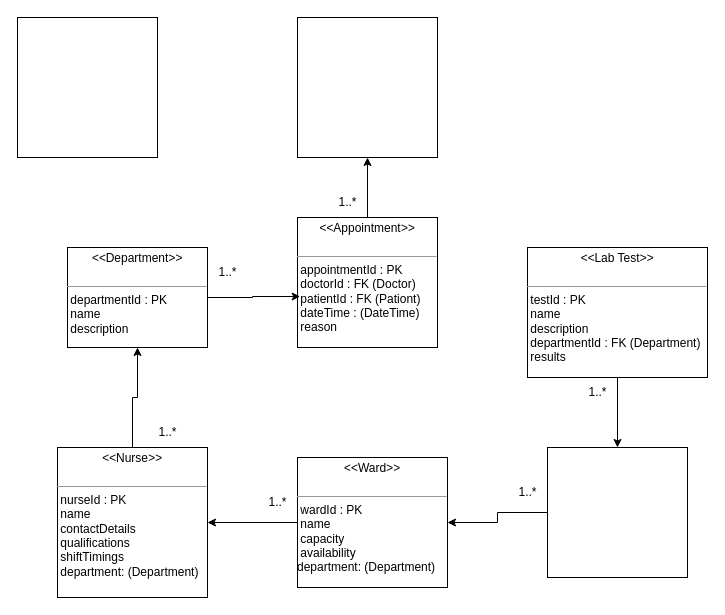
This 725x615 diagram has some shape labels left out. Here are the shapes that lost their labels. From the top down, the box of each, then its label:
(16, 16, 158, 158): << Doctor >> doctorId : PK name contactDetails qualifications age
(296, 16, 438, 158): << Patient >> patientId : PK name contactDetails age gender medicalHistory
(546, 446, 688, 578): << Medication >> medicationId : PK name instructions stock expirationDate
